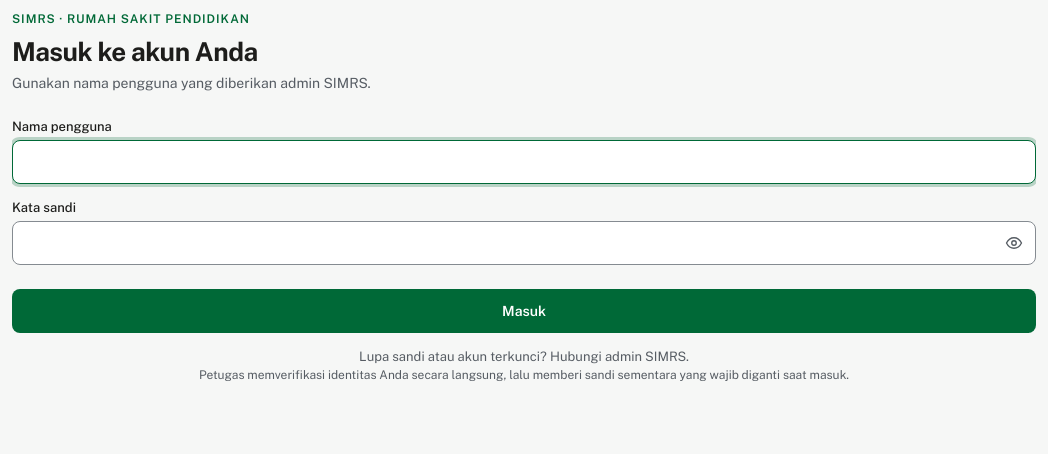
Test: MasukPage (mesin status PRD 10.3.2) › /saya gagal setelah sandi diterima: tetap di langkah sandi dengan pesan
Type "contoh.dokter" into the field with id "nama-pengguna" at (524, 162), box [12, 140, 1036, 184]
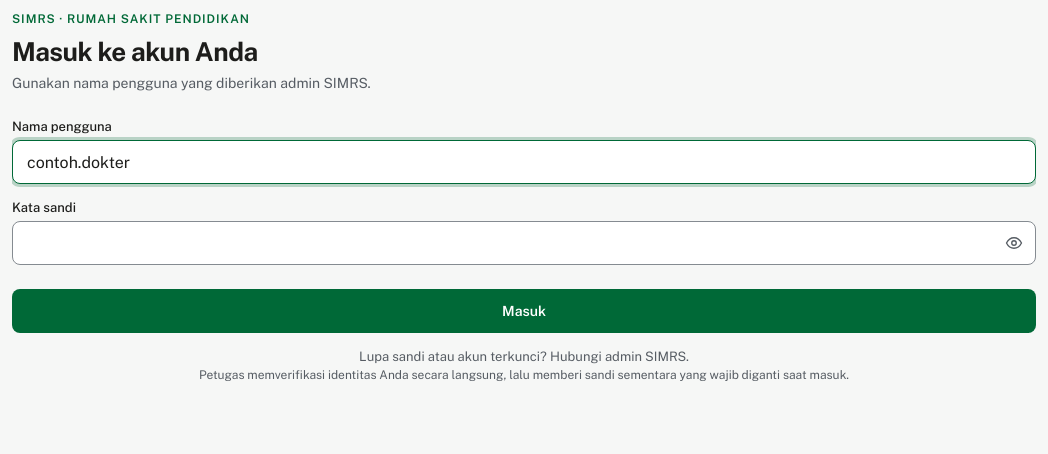
Type "sandi-panjang-sekali" into the password field with id "sandi" at (524, 243), box [12, 221, 1036, 265]
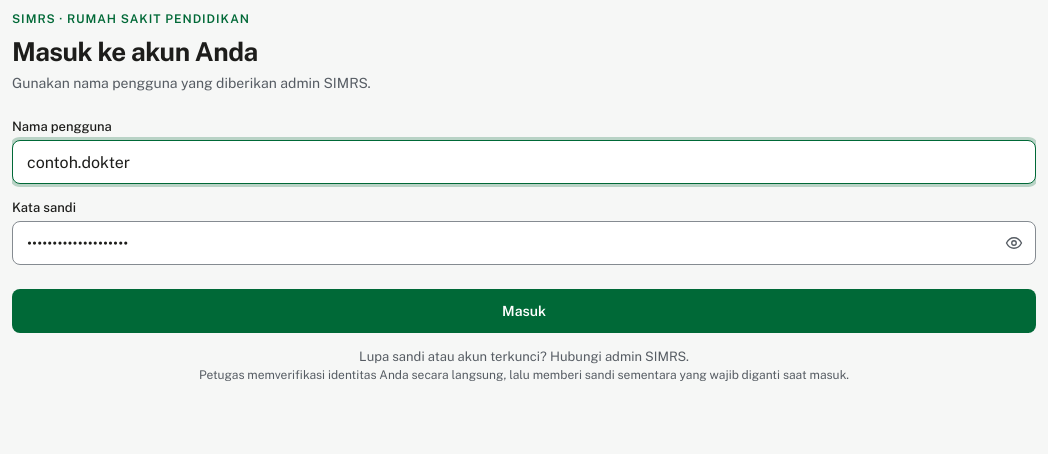
Submit the form, box [12, 119, 1036, 333]
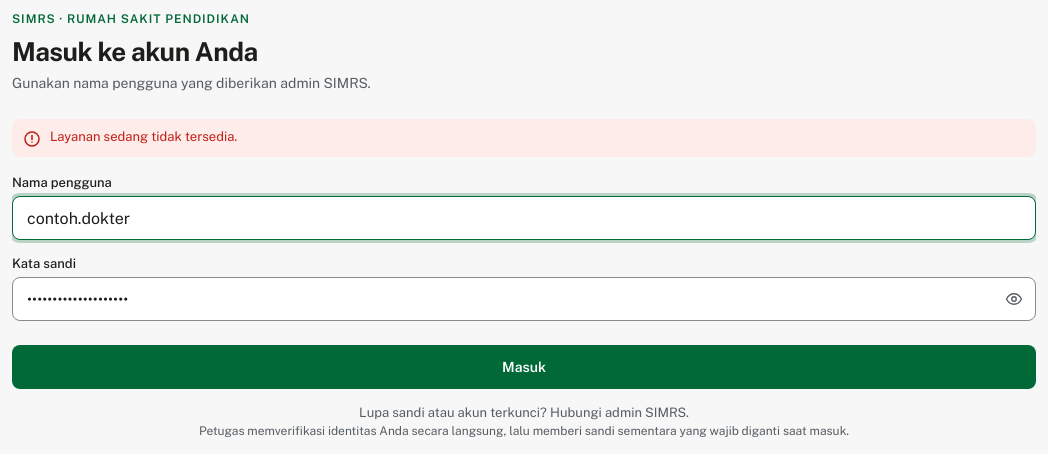
Check: the message "Layanan sedang tidak tersedia." is shown, box [12, 119, 1036, 157]
